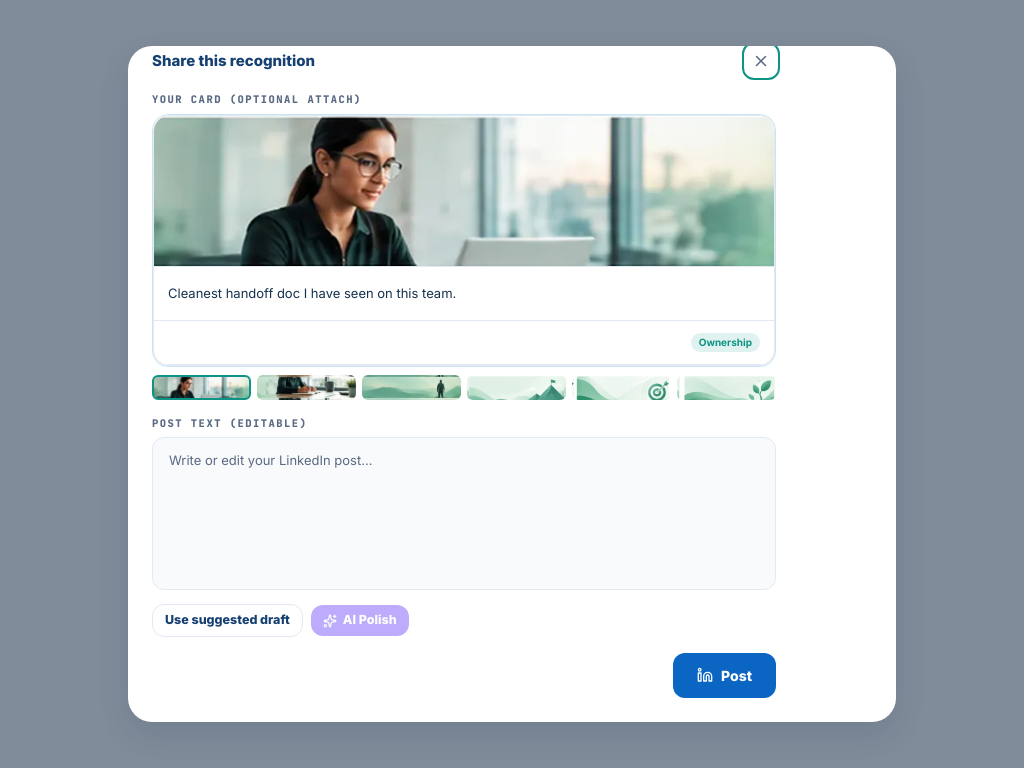
Test: ShareComposer (organism — in-app step 1 of the LinkedIn share) › AI Polish works only once real text exists
(page scrolled)
Expected: the button "AI Polish" is disabled, [311, 605, 409, 636]
Type "My own.LinkedIn post words." into the text box with placeholder "Write or edit your LinkedIn post…" at (464, 514), box [152, 437, 776, 590]
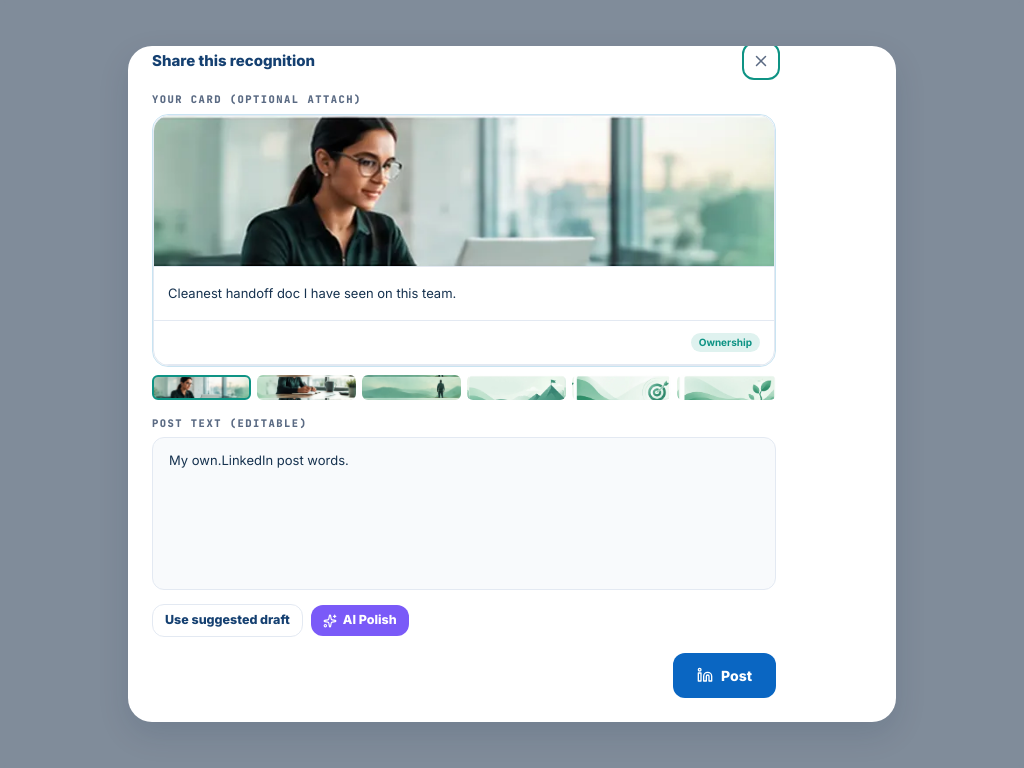
Now the button "AI Polish" is enabled, box [311, 605, 409, 636]
